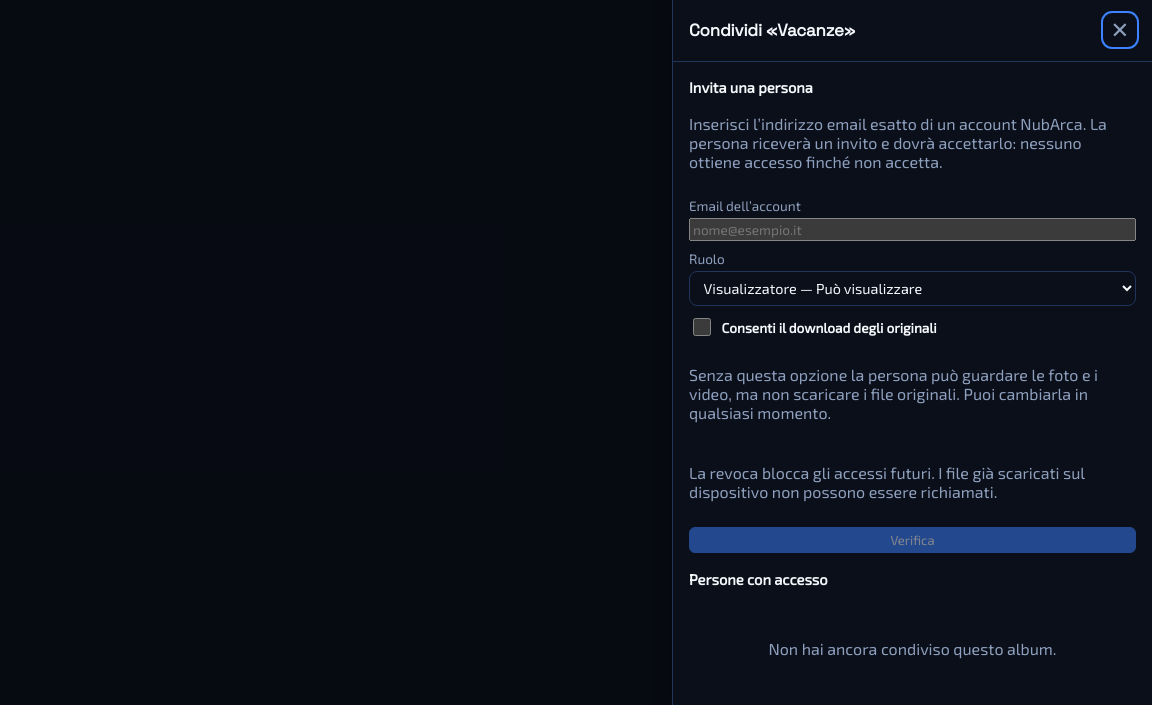
AlbumSharePanel › reports a duplicate invitation as a conflict, keeping the confirm step
This screenshot has width=1152, height=705.
Expected: the text "Non hai ancora condiviso questo album." is shown, [768,639,1056,658]
Type "bruno@example.com" into the field with test id "album-share-email" at (912, 229), box [689,218,1136,241]
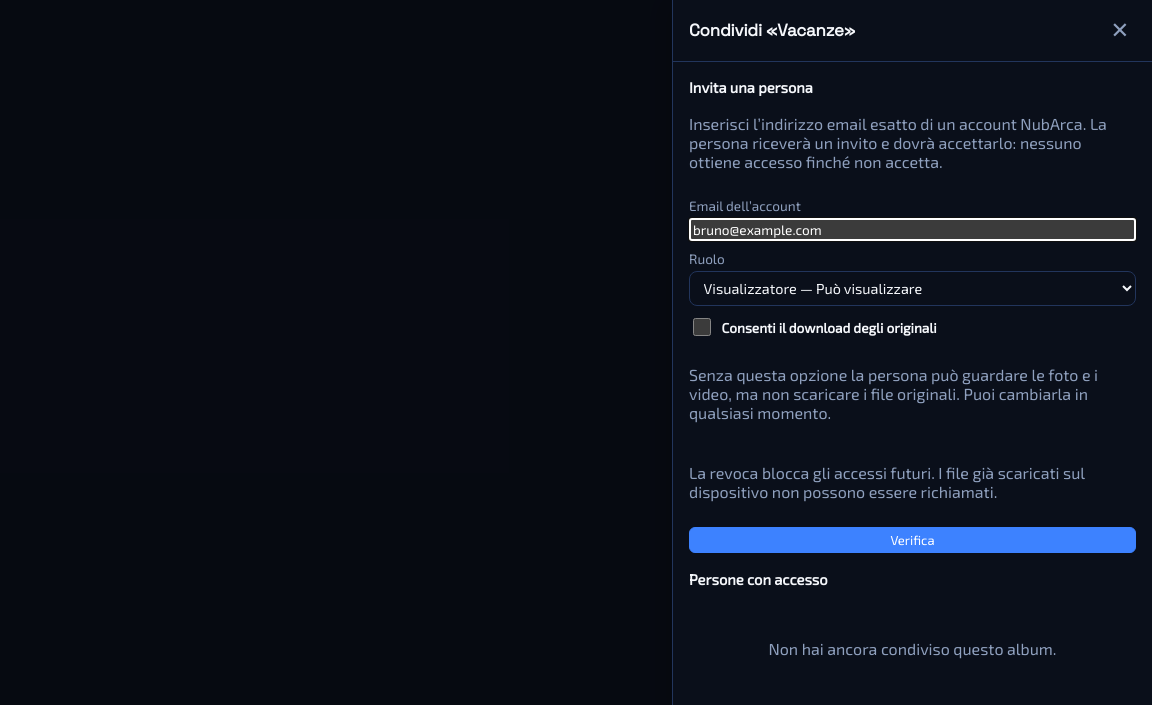
Click the button with test id "album-share-resolve" at (912, 540), box [689,527,1136,553]
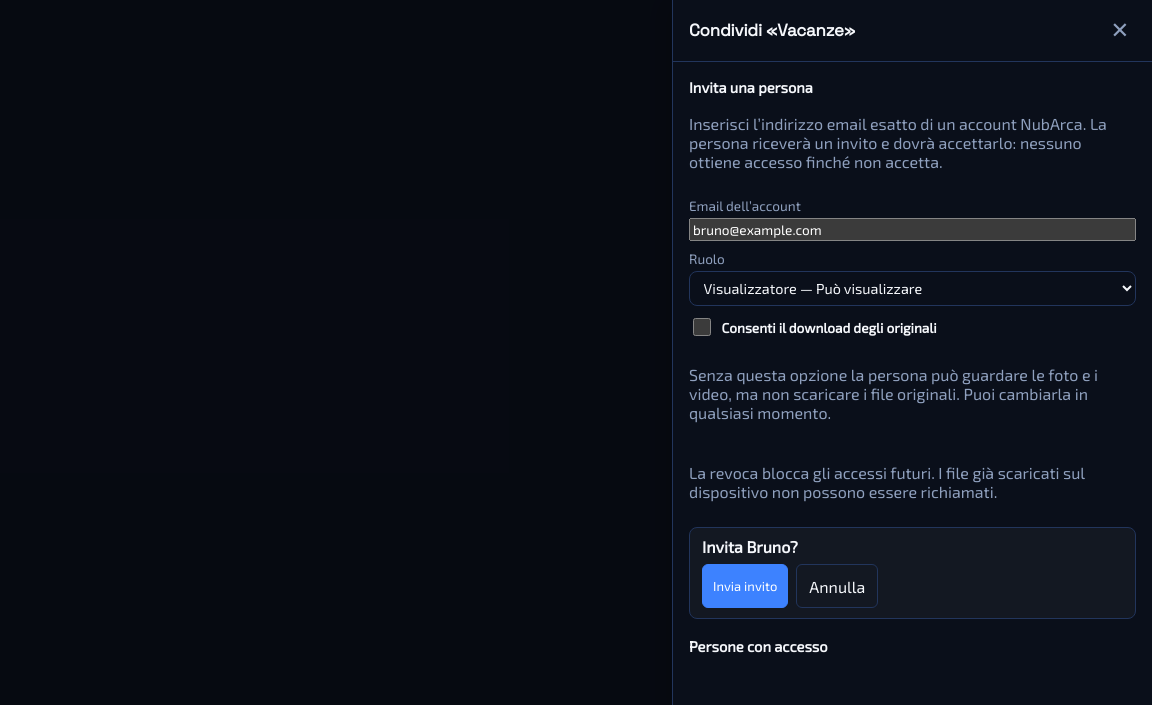
Click the button with test id "album-share-send" at (745, 586), box [702,564,788,608]
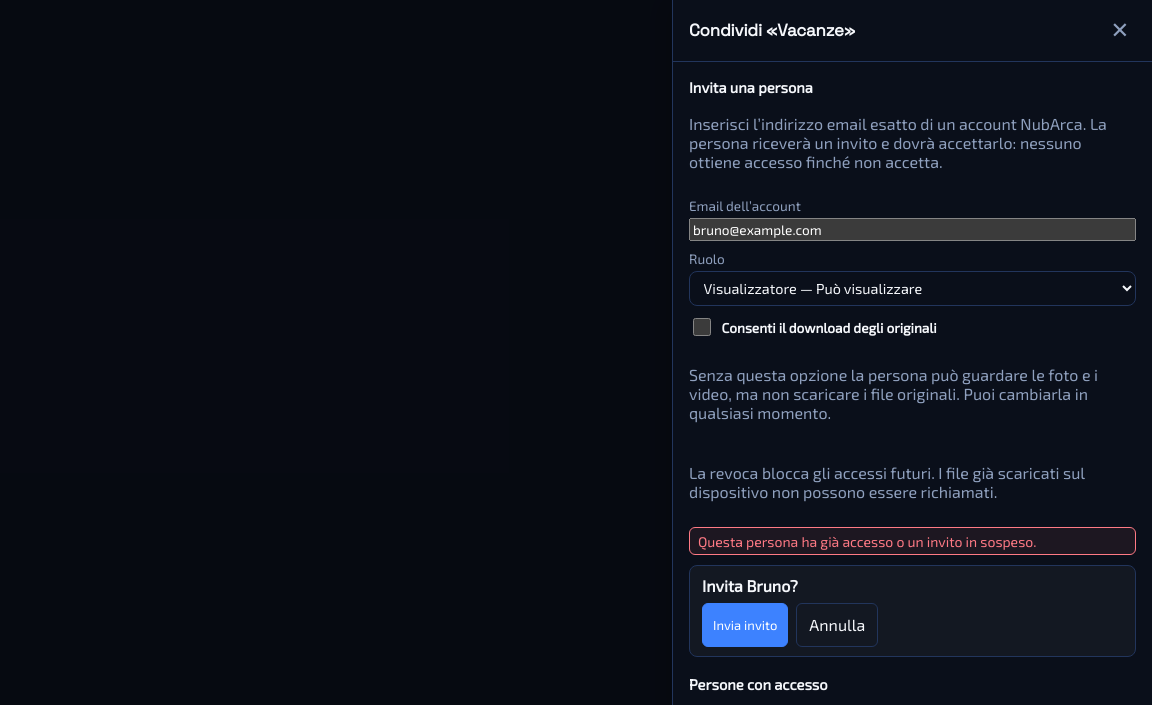
Expected: the element with test id "album-share-confirm" is shown, [689,565,1136,657]
Expected: the message shows "già accesso o un invito", [698,533,1036,550]
